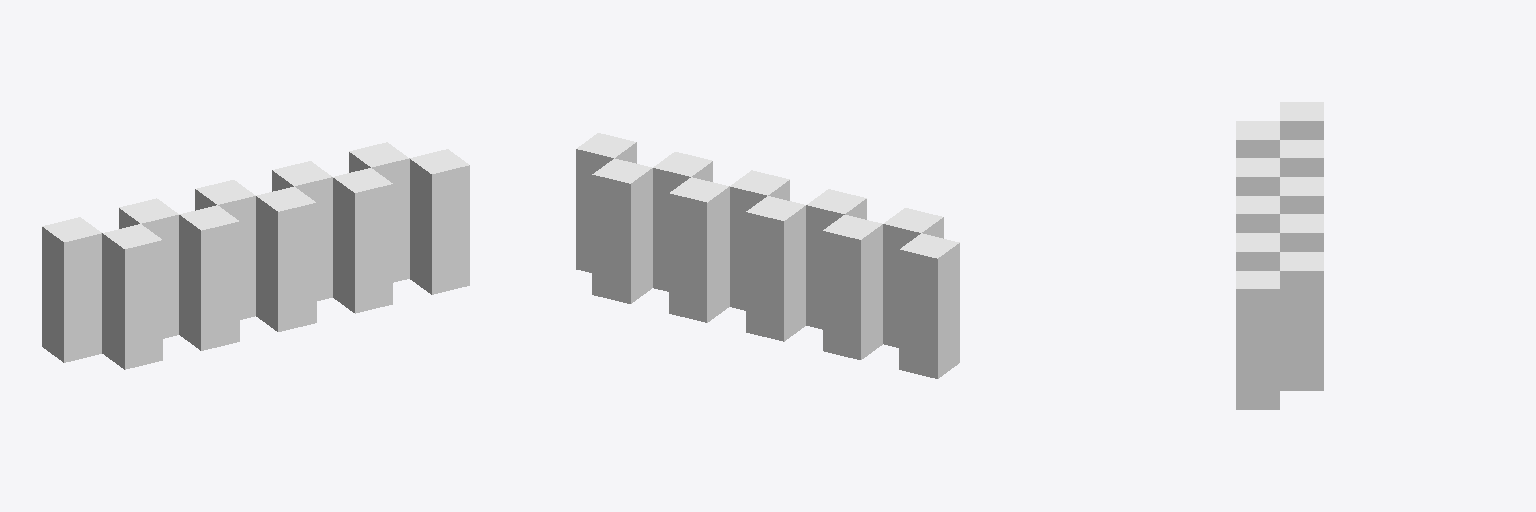
The model's file is 10mmVB.obj.
The picture shows the model from 3 angles: view 1: azimuth 30°, elevation 25°; view 2: azimuth 150°, elevation 25°; view 3: azimuth 270°, elevation 25°; orthographic projection.
Parts seen in each view (by area): view 1: 10box; view 2: 10box; view 3: 10box.
Part boxes in pixels (left/top/right/bottom): 10box: left=42, top=142, right=469, bottom=369; 10box: left=576, top=133, right=959, bottom=378; 10box: left=1236, top=102, right=1323, bottom=409.
Size of the model in its own units: 1 by 0.3 by 0.2.